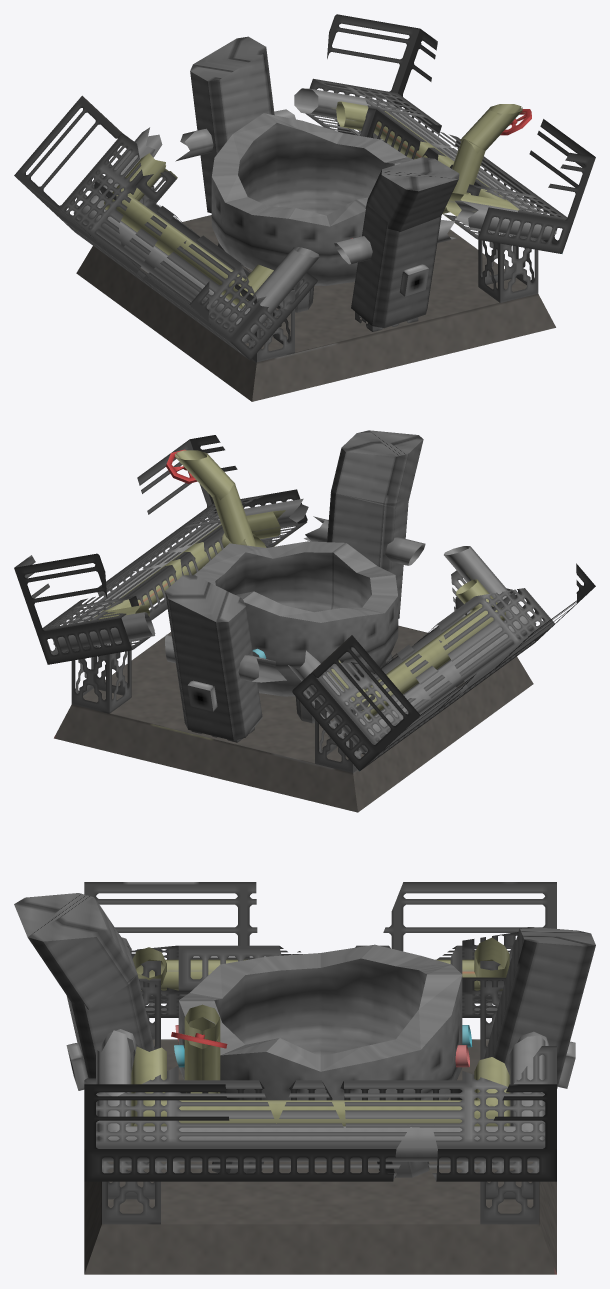
The model's file is zirnox_destroyed.obj.
The picture shows the model from 3 angles, top to bottom: view 1: azimuth 30°, elevation 25°; view 2: azimuth 150°, elevation 25°; view 3: azimuth 270°, elevation 25°; orthographic projection. The views are drawn at different scales.
Parts seen in each view (by area): view 1: Plane; view 2: Plane; view 3: Plane.
Boxes of the visible parts, x1=… form: Plane: x1=14, y1=14, x2=595, y2=401; Plane: x1=14, y1=430, x2=595, y2=812; Plane: x1=14, y1=882, x2=595, y2=1274.
Bounding box in the file's own units: 6.67 × 3.1 × 6.15.
